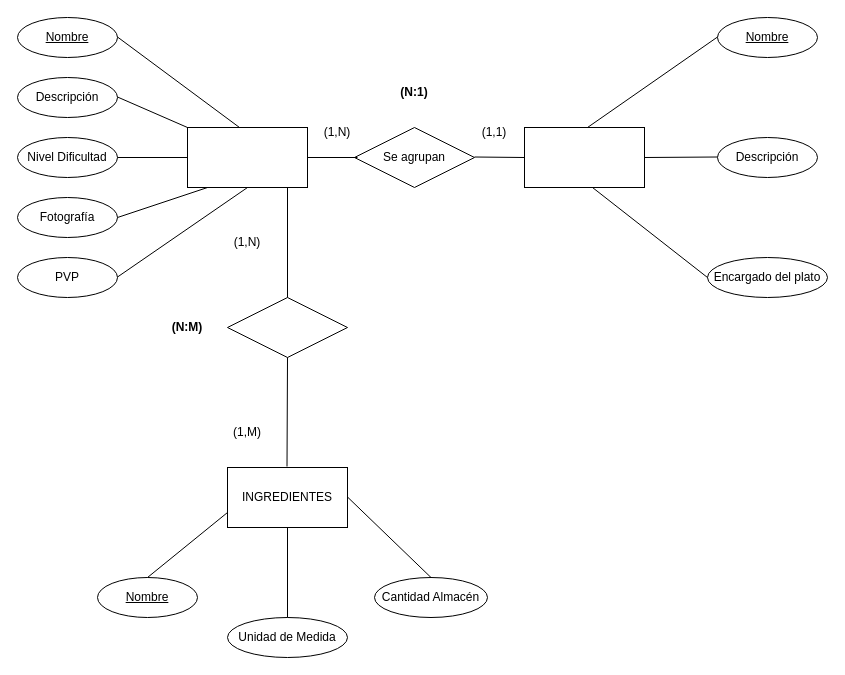
Some shapes in this 845 by 675 pixel diagram are drawn without their labels. The shapes that lost their labels are listed below. From the top down, each one's centre as x and y in pixels, then its label:
(x=247, y=157): PLATOS
(x=584, y=157): CATEGORIAS
(x=287, y=327): Se elaboran con
